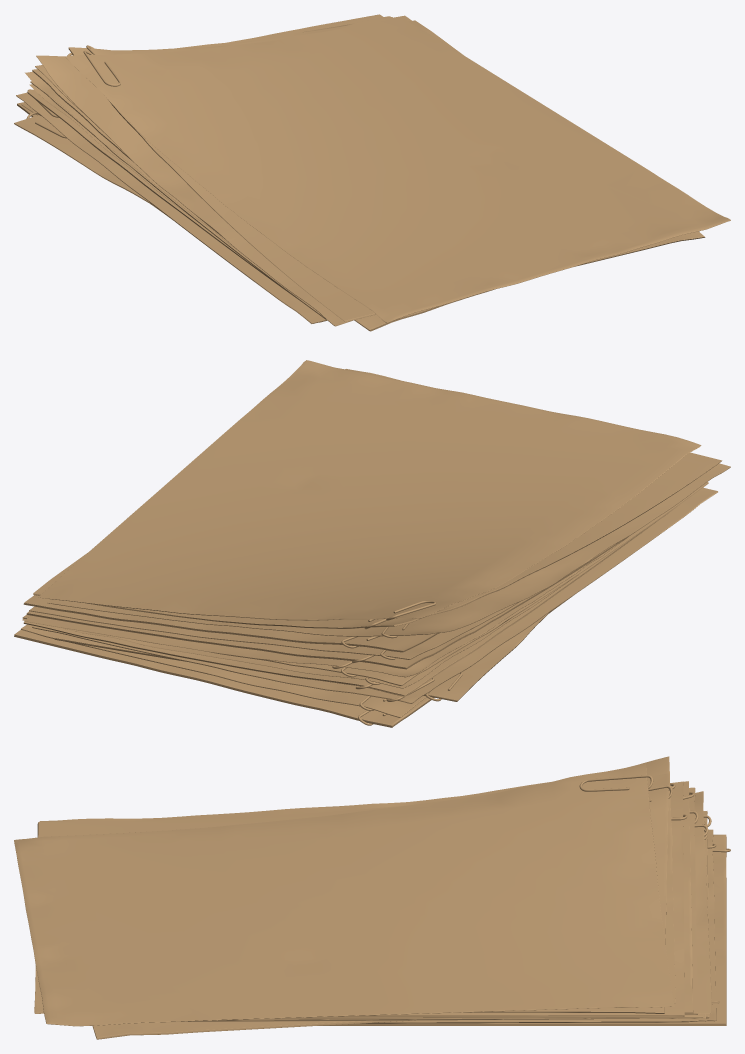
Rendered from paper_stack_a05.glb.
The picture shows the model from 3 angles, top to bottom: view 1: azimuth 30°, elevation 25°; view 2: azimuth 150°, elevation 25°; view 3: azimuth 270°, elevation 25°; orthographic projection. The views are drawn at different scales.
Size of the model in its own units: 0.2519 by 0.0431 by 0.3383.
